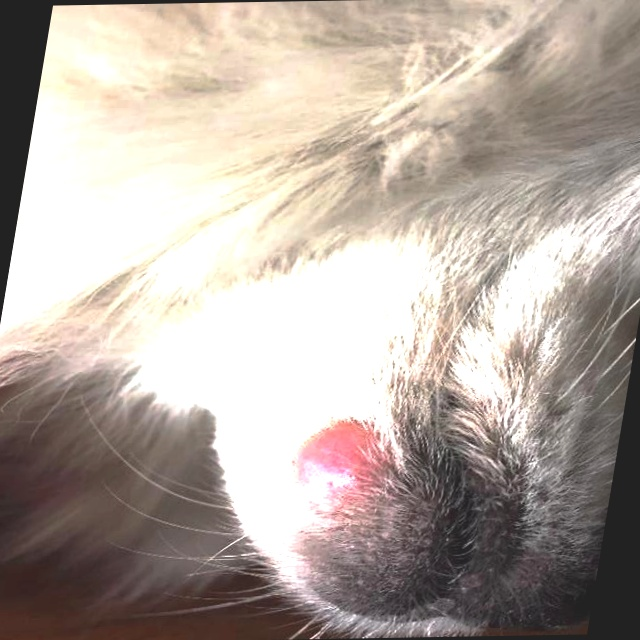lump_and_bump: (284, 416, 406, 509)
